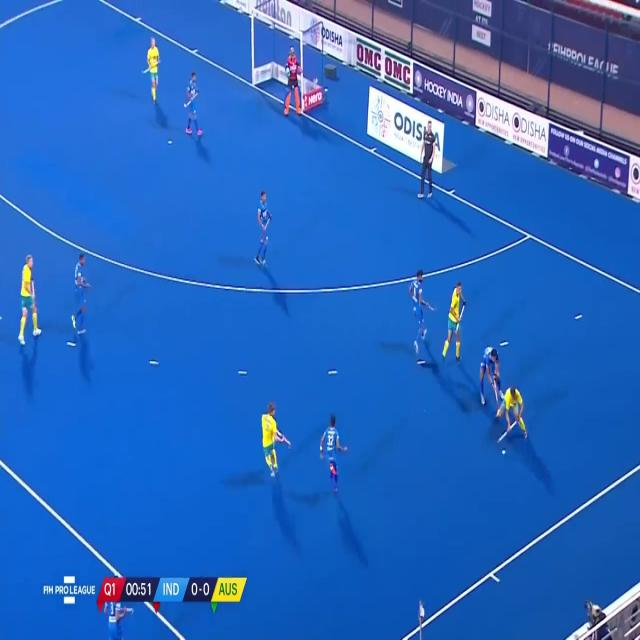ball: (498, 442, 509, 462)
